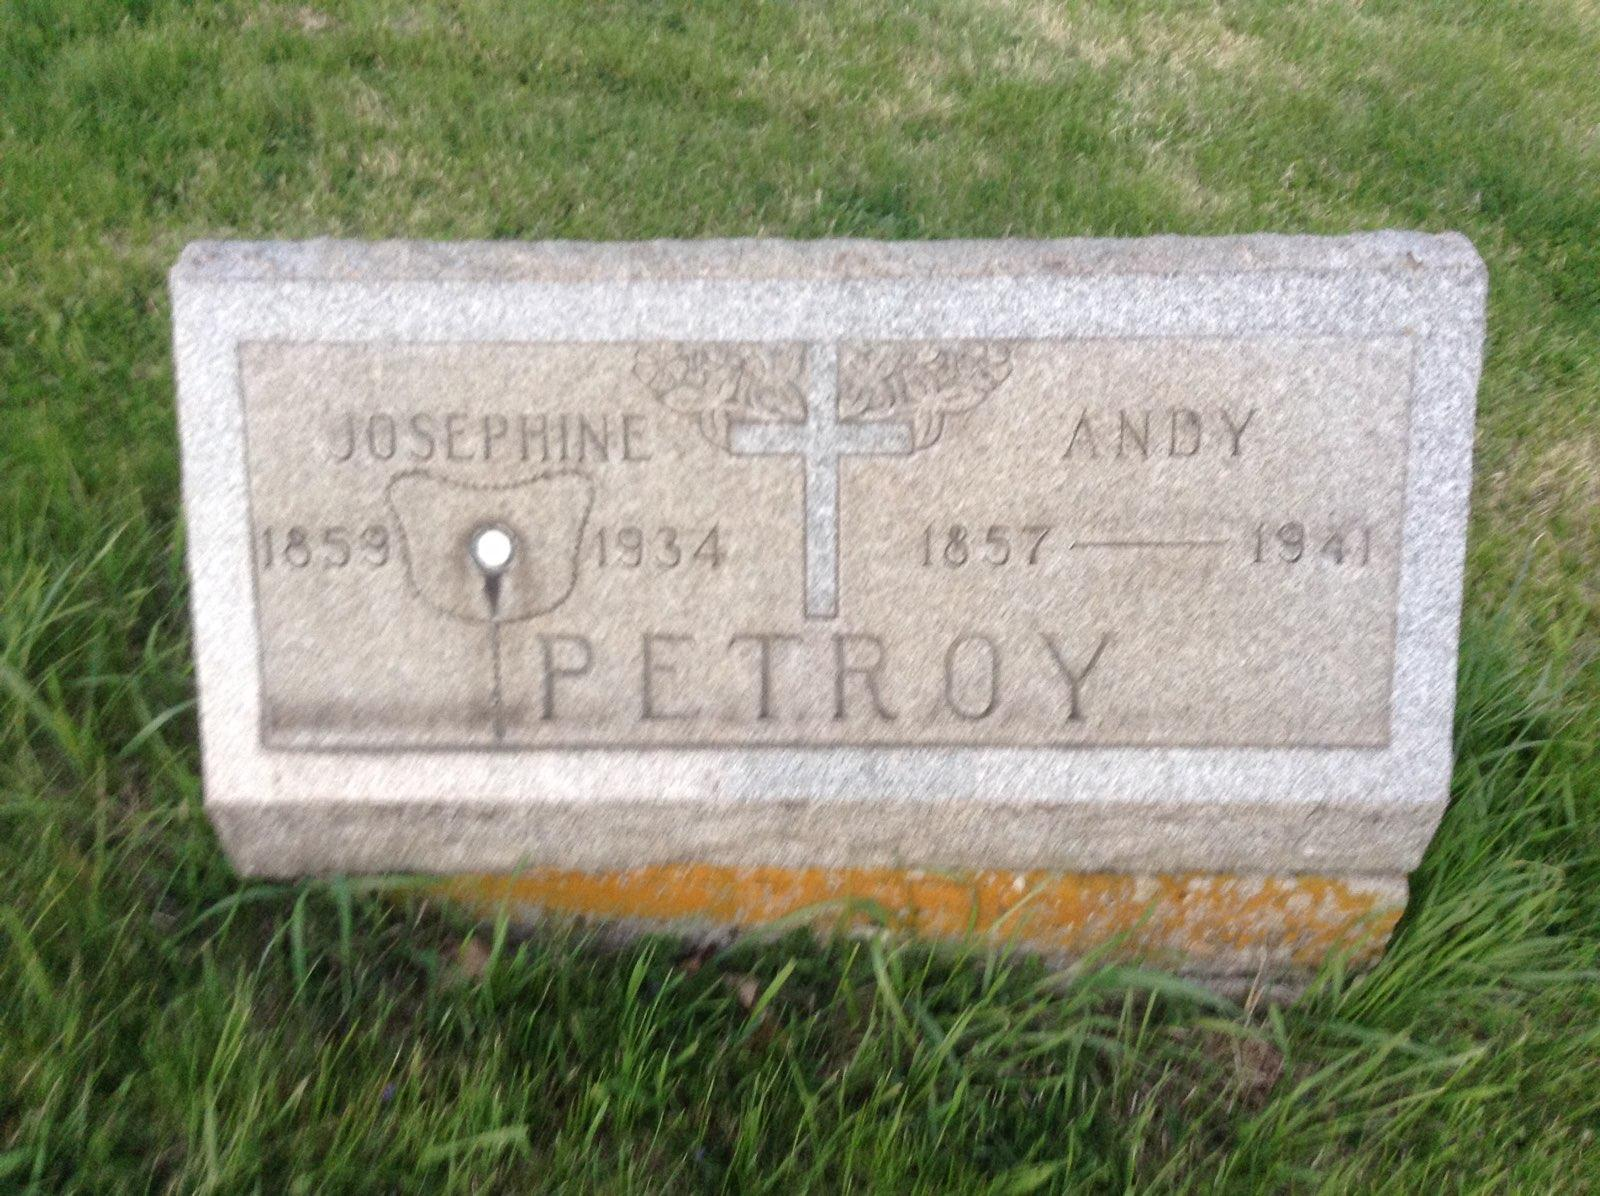slant: (165, 231, 1492, 984)
